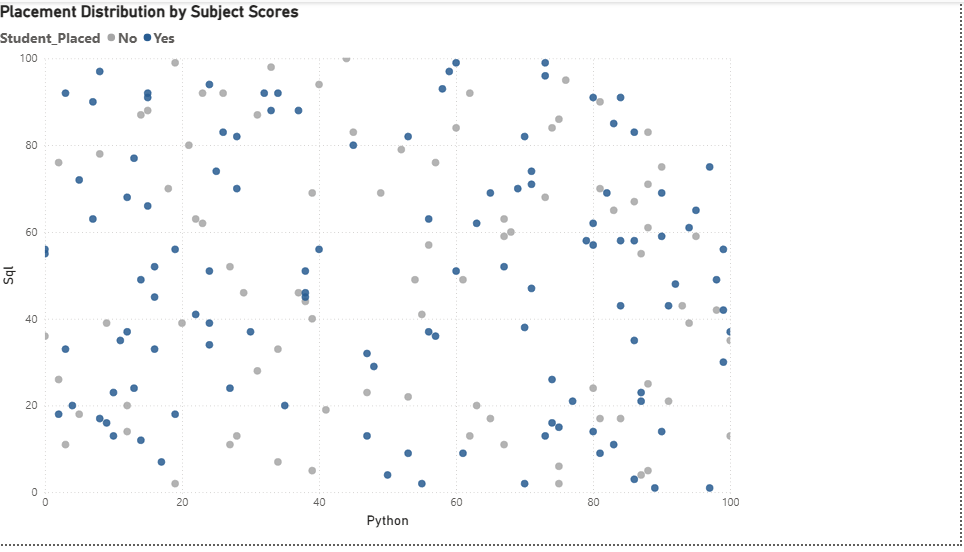

The page's visual inventory and layout, read from the dashboard file:
{"tool":"powerbi","page":{"name":"Page 2","canvas":[1280,720],"ordinal":1},"visuals":[{"type":"scatterChart","title":"Placement Distribution by Subject Scores","fields":{"X":["scores.Python"],"Y":["scores.Sql"],"Series":["scores.Student_Placed"]},"box":[0,0,992.3,703],"z":0}]}

Visuals, with their boxes in screenshot pixels (x1, y1, x2, y2), scaled from the page's 1280x720 canvas onto the 964x552 screenshot:
"Placement Distribution by Subject Scores" scatterChart: (0,0,747,539)
